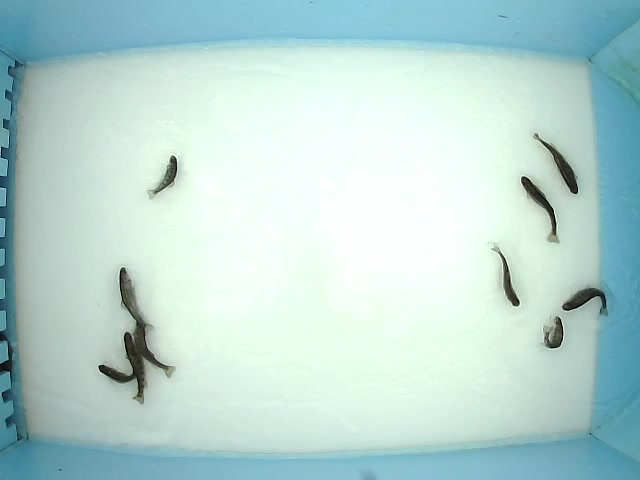fish: (532, 131, 579, 195), (520, 175, 561, 244), (132, 319, 177, 379), (118, 266, 155, 334), (489, 240, 521, 307), (123, 331, 149, 407), (145, 155, 179, 201), (562, 284, 608, 317), (98, 362, 141, 385), (542, 315, 564, 350)
